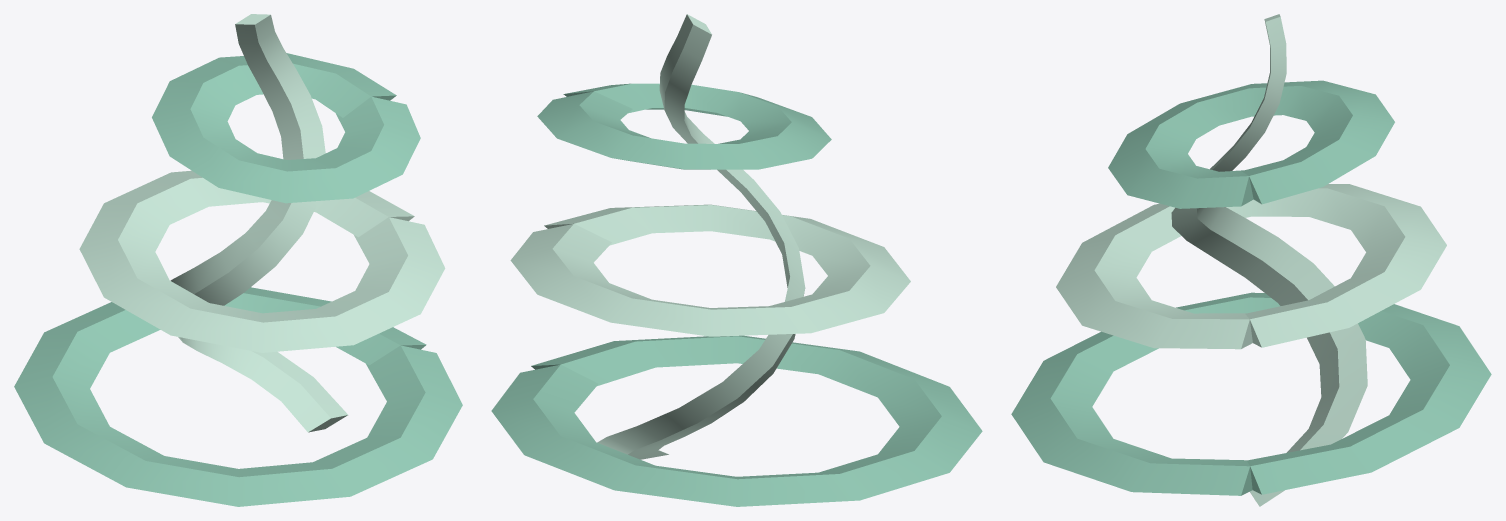
The model's file is emblem_air.fbx.
3 views of the same model, side by side, from view 1: azimuth 30°, elevation 25°; view 2: azimuth 150°, elevation 25°; view 3: azimuth 270°, elevation 25° (orthographic). The views are drawn at different scales.
Parts seen in each view (by area): view 1: emblem_air; view 2: emblem_air; view 3: emblem_air.
Part boxes in pixels (left/top/right/bottom): emblem_air: left=14, top=14, right=462, bottom=506; emblem_air: left=491, top=14, right=982, bottom=506; emblem_air: left=1011, top=14, right=1491, bottom=506.
Size of the model in its own units: 0.6481 by 0.6762 by 0.6496.
